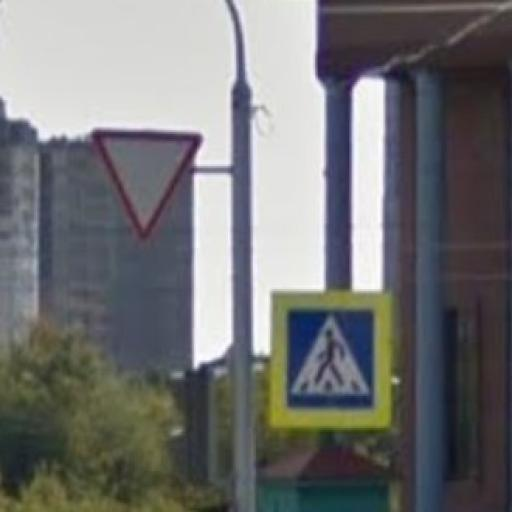traffic_sign: (268, 287, 397, 435), (88, 126, 209, 247)
